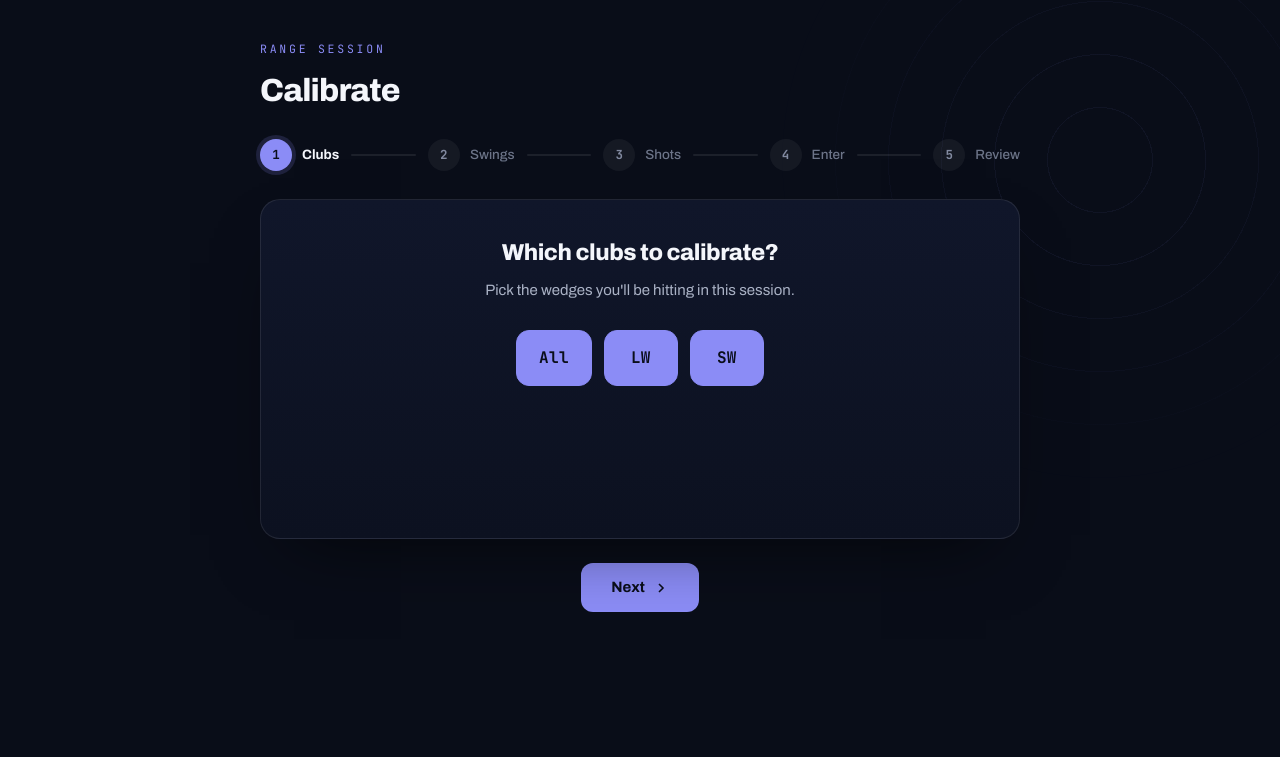
Test case: CalibrateView › starts calibration when shot count is selected
This screenshot has width=1280, height=757.
Click the button with test id "club-next-button" at {"x": 640, "y": 588}, box [581,563,699,612]
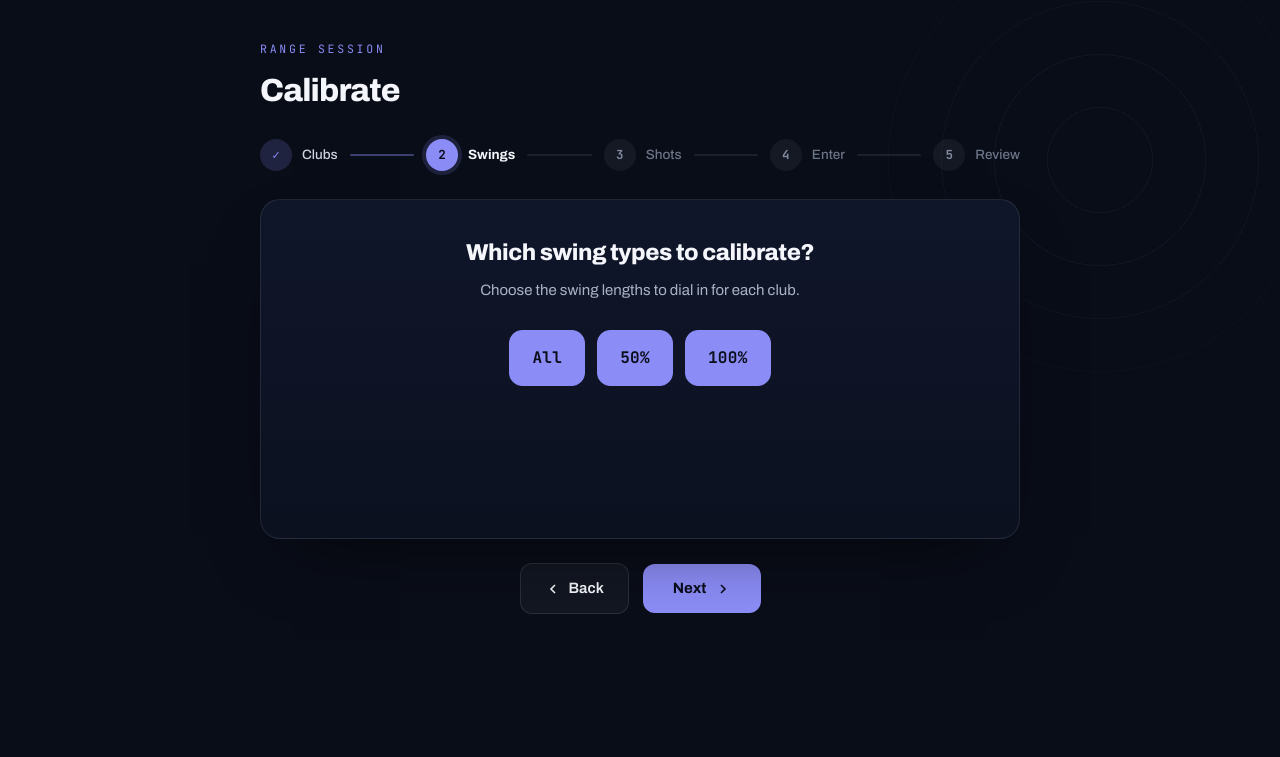
Click the button with test id "swing-next-button" at {"x": 702, "y": 589}, box [643,564,760,613]
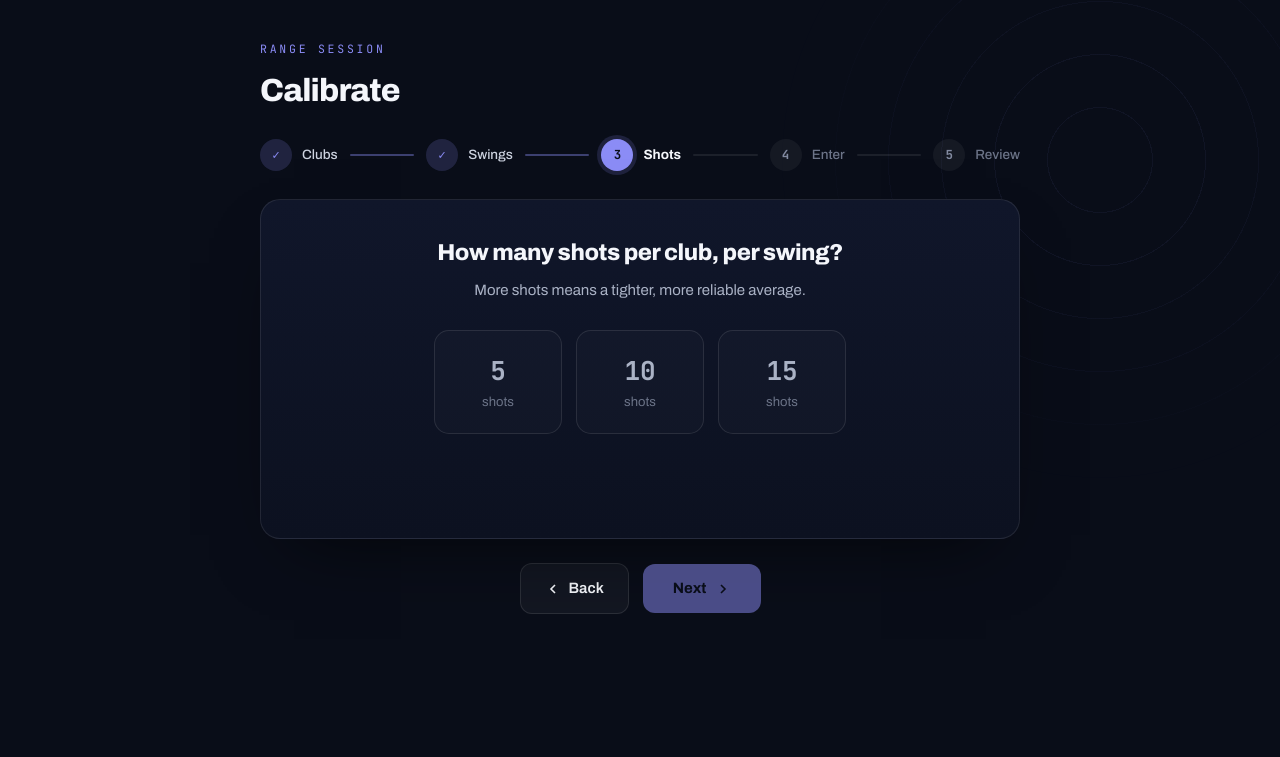
Click the button with test id "shot-count-5" at {"x": 498, "y": 382}, box [434,330,562,434]
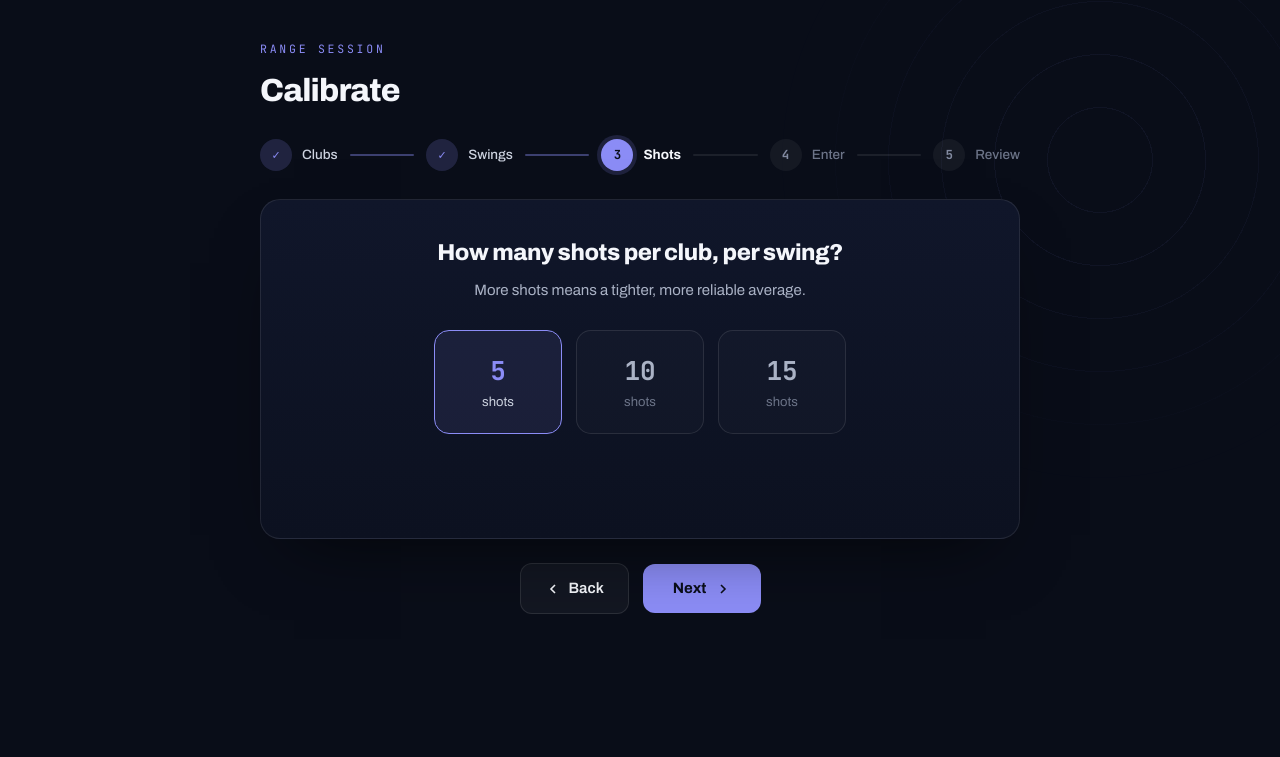
Click the button with test id "shot-count-next-button" at {"x": 702, "y": 589}, box [643,564,760,613]
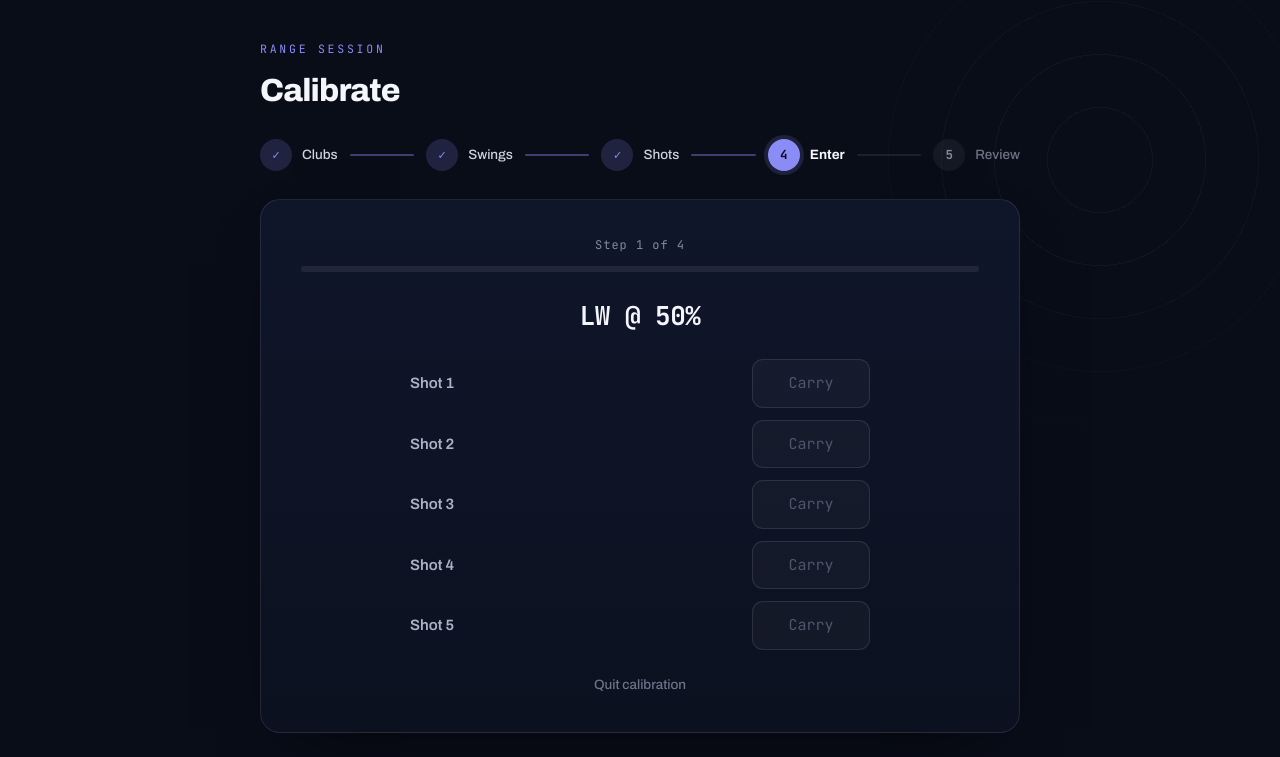
Check: the text "Step 1 of 4" is shown, box [595,237,685,253]
Check: the heading "LW @ 50%" is shown, box [580,298,700,333]
